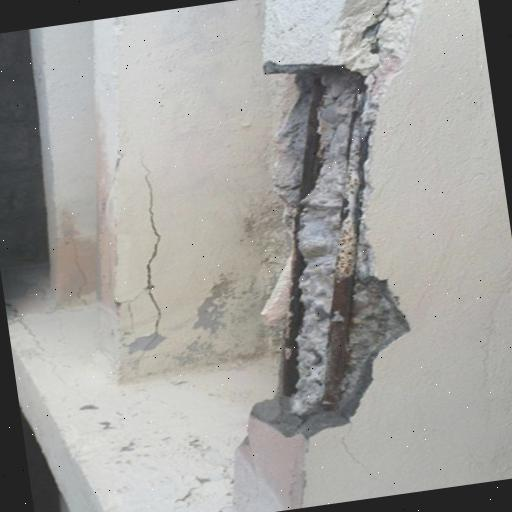spalling: (253, 0, 415, 436), (129, 162, 168, 369)
